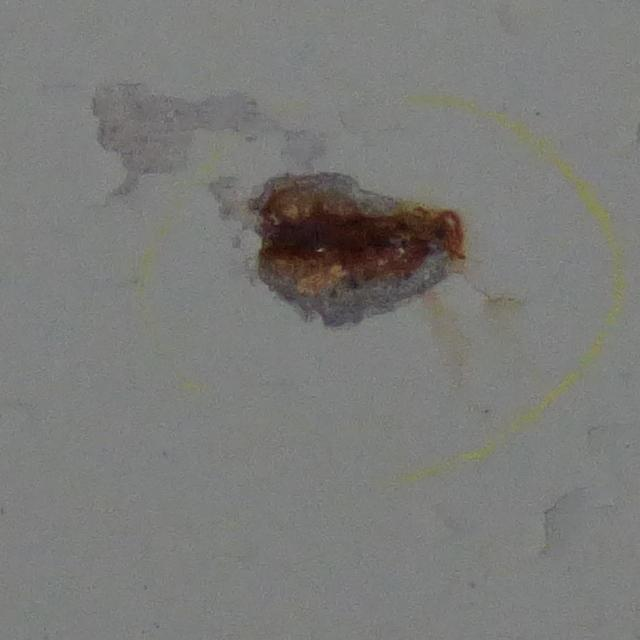Rust: (261, 189, 461, 283)
